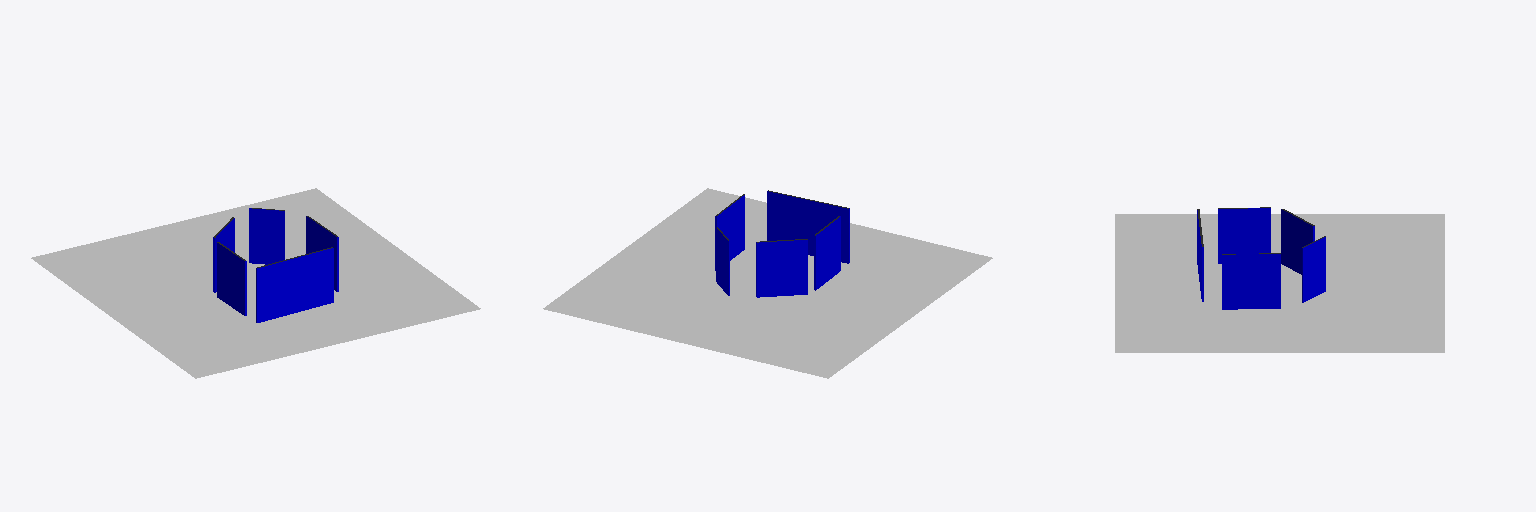
The model's file is foo.obj.
3 renders of one model, left to right at view 1: azimuth 30°, elevation 25°; view 2: azimuth 150°, elevation 25°; view 3: azimuth 270°, elevation 25°, orthographic.
Size of the model in its own units: 1.11 by 0.2032 by 1.11.